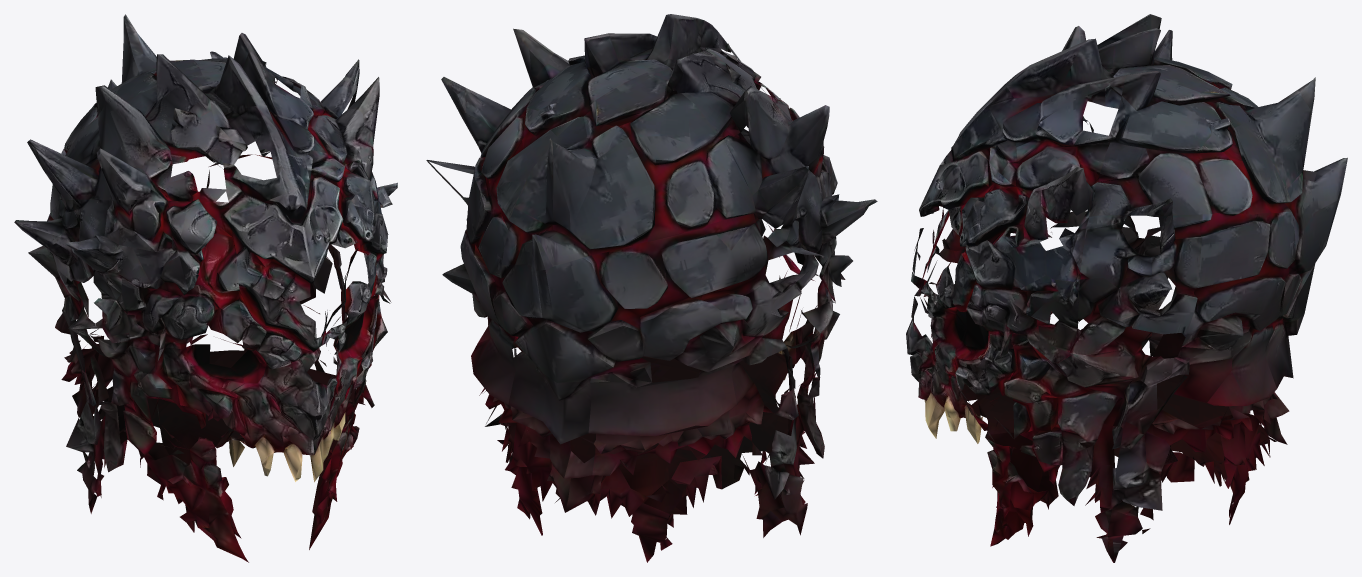
File: tripo-rochedo154.glb
The picture shows the model from 3 angles, left to right: view 1: azimuth 30°, elevation 25°; view 2: azimuth 150°, elevation 25°; view 3: azimuth 270°, elevation 25°; orthographic projection. The views are drawn at different scales.
Parts seen in each view (by area): view 1: tripo_node_33a49ff2-cd32-4f03-b520-776f035b996a; view 2: tripo_node_33a49ff2-cd32-4f03-b520-776f035b996a; view 3: tripo_node_33a49ff2-cd32-4f03-b520-776f035b996a.
Boxes of the visible parts, left/top/right/bottom form: tripo_node_33a49ff2-cd32-4f03-b520-776f035b996a: left=14, top=14, right=397, bottom=562; tripo_node_33a49ff2-cd32-4f03-b520-776f035b996a: left=426, top=14, right=877, bottom=562; tripo_node_33a49ff2-cd32-4f03-b520-776f035b996a: left=906, top=14, right=1347, bottom=562.
Size of the model in its own units: 0.7902 by 0.9796 by 0.7968.
1 material, 1 textured.
